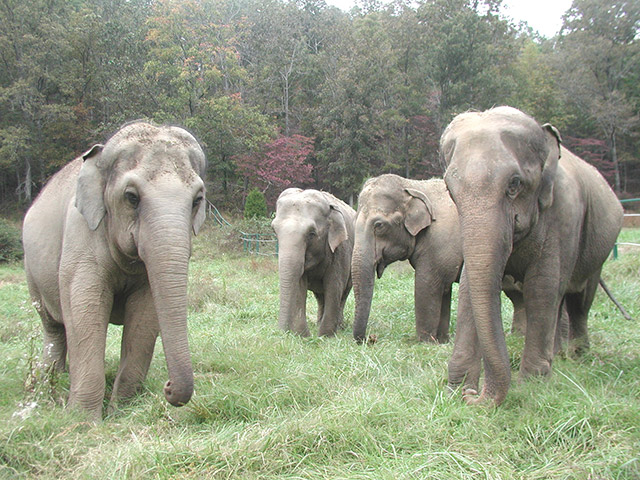elephant: (13, 111, 216, 435), (439, 102, 625, 412), (349, 159, 545, 358), (265, 175, 368, 344)
